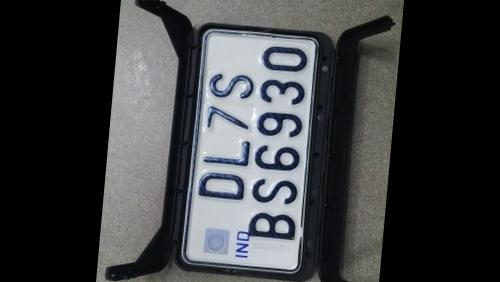plate: (172, 24, 320, 267)
